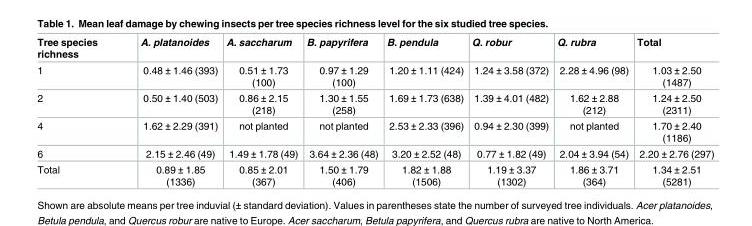table: (36, 37, 713, 186)
table column: (118, 37, 221, 186), (381, 37, 467, 186), (467, 37, 552, 186), (36, 37, 118, 186), (632, 37, 713, 186), (221, 37, 301, 186), (301, 37, 381, 186), (552, 37, 632, 186)
table column header: (36, 37, 713, 61)
table row: (36, 61, 713, 89), (36, 89, 713, 117), (36, 117, 713, 145), (36, 161, 713, 186), (36, 37, 713, 61), (36, 145, 713, 161)
